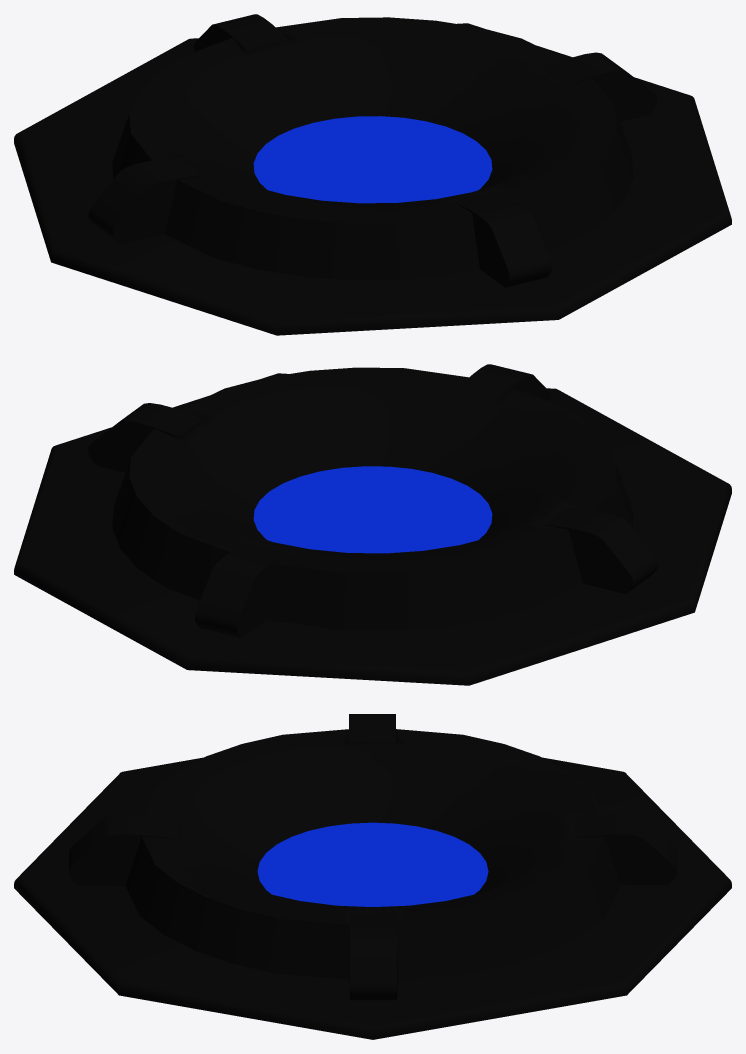
File: holodisplaystand3.fbx
3 views of the same model, one above another, from view 1: azimuth 30°, elevation 25°; view 2: azimuth 150°, elevation 25°; view 3: azimuth 270°, elevation 25° (orthographic). The views are drawn at different scales.
Parts seen in each view (by area): view 1: Cylinder.002; view 2: Cylinder.002; view 3: Cylinder.002.
Part boxes in pixels (bbox=[...]): Cylinder.002: bbox=[14, 14, 731, 335]; Cylinder.002: bbox=[14, 364, 731, 685]; Cylinder.002: bbox=[14, 714, 731, 1039].
Size of the model in its own units: 164 by 16.07 by 164.
